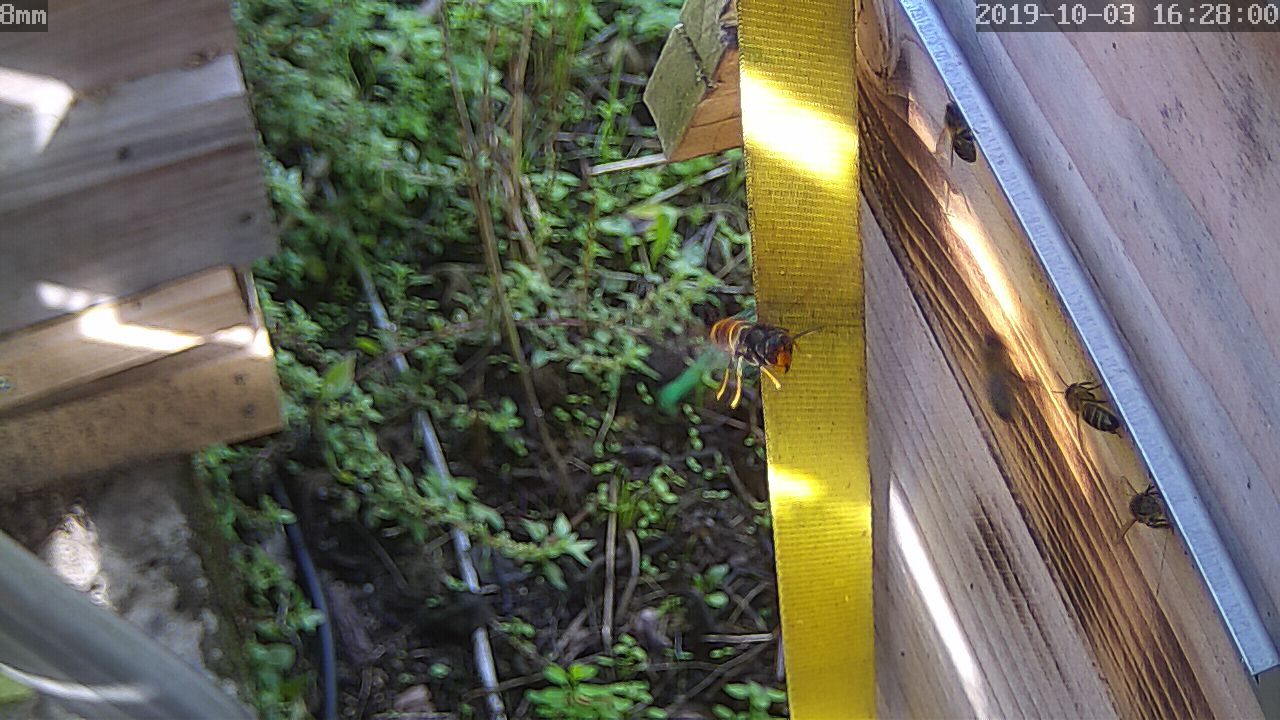bee: (1058, 373, 1125, 438), (933, 100, 983, 174), (1115, 479, 1172, 538)
hornet: (699, 300, 800, 394)
